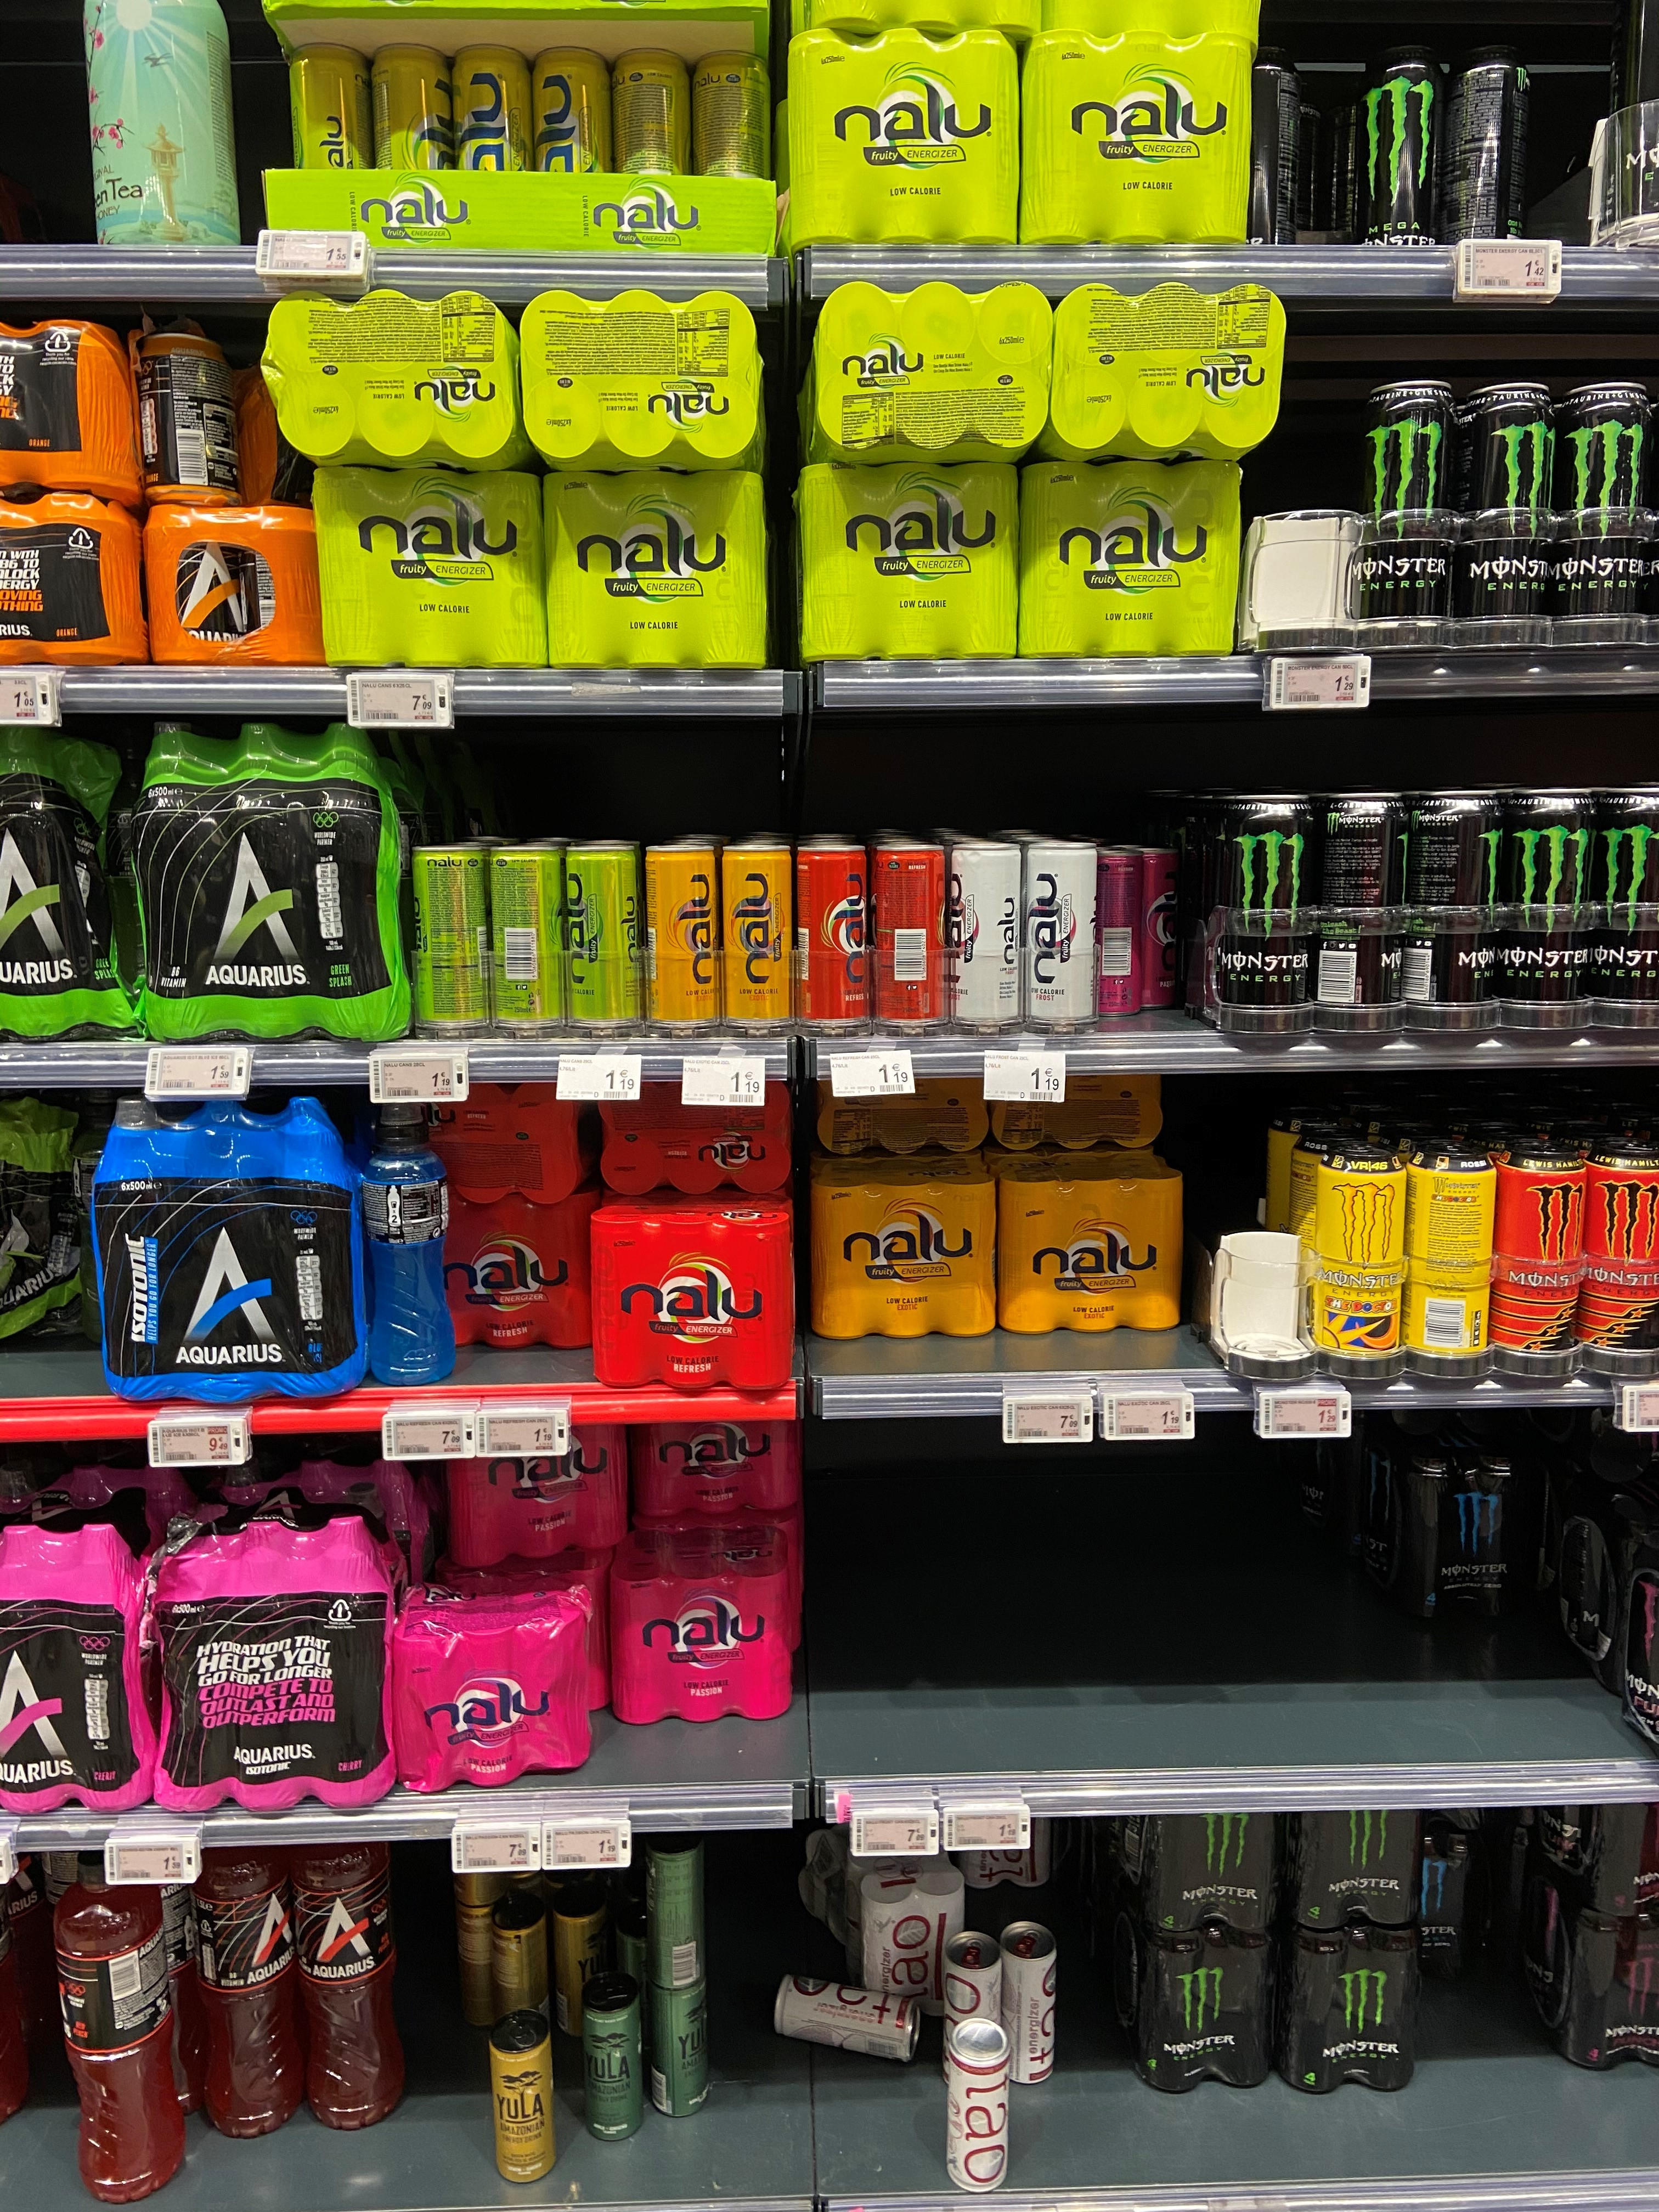AquariusBlueIceFles500ml: (359, 1090, 451, 1385)
AquariusBlueIceFles6x500ml: (91, 1092, 366, 1402)
AquariusCherryFles6x500ml: (150, 1489, 396, 1811), (0, 1493, 148, 1811)
AquariusGreenSplashFles6x500ml: (127, 718, 406, 1042), (0, 719, 131, 1038)
AquariusOrangeBlik330ml: (136, 333, 240, 495)
AquariusOrangeBlik6x330ml: (145, 502, 321, 669), (0, 489, 143, 664), (0, 319, 127, 496)
AquariusRedPeachFles500ml: (52, 1848, 188, 2203), (197, 1827, 301, 2139), (298, 1832, 406, 2128)
ArizonaOriginalGreenTeaHoney: (82, 0, 242, 253)
Monster44: (1486, 1141, 1591, 1369), (1581, 1130, 1659, 1381)
MonsterAbsolutelyZero4x500ml: (1371, 1423, 1537, 1627)
MonsterOriginal4x500ml: (1119, 1909, 1274, 2090), (1127, 1768, 1279, 1928), (1279, 1926, 1417, 2092), (1288, 1791, 1424, 1930)
MonsterOriginal500ml: (1356, 378, 1460, 627), (1558, 381, 1654, 632), (1215, 792, 1312, 1031), (1314, 794, 1408, 1031), (1464, 383, 1554, 625), (1504, 787, 1595, 1026), (1408, 789, 1497, 1031), (1354, 44, 1441, 256), (1446, 44, 1532, 246), (1593, 787, 1659, 1026), (1241, 49, 1304, 253)
MonsterTheDoctor500ml: (1310, 1143, 1408, 1372), (1403, 1146, 1499, 1371)
NaluExotic250ml: (645, 845, 718, 1031), (723, 846, 793, 1029)
NaluExotic6x350ml: (809, 1163, 997, 1338), (1000, 1158, 1185, 1334), (993, 1054, 1166, 1150), (817, 1062, 988, 1157)
NaluFrost250ml: (951, 845, 1023, 1022), (1025, 841, 1094, 1021)
NaluOriginal250ml: (411, 841, 490, 1036), (486, 841, 565, 1036), (565, 841, 638, 1036)
NaluOriginal350ml: (690, 51, 774, 242), (450, 45, 533, 235), (289, 44, 371, 235), (373, 44, 453, 237), (610, 47, 688, 237), (533, 45, 610, 233)
NaluOriginal6x350ml: (1023, 30, 1255, 251), (786, 30, 1019, 249), (267, 287, 523, 470), (314, 467, 545, 669), (795, 456, 1023, 660), (544, 469, 767, 669), (807, 280, 1053, 462), (518, 289, 765, 463), (1019, 460, 1239, 655), (1054, 282, 1288, 449)
NaluPassion250ml: (1089, 848, 1145, 1021), (1136, 850, 1183, 1007)
NaluPassion6x350ml: (390, 1581, 599, 1794), (612, 1524, 795, 1726), (443, 1420, 627, 1569), (627, 1390, 803, 1524)
NaluRefresh250ml: (795, 845, 871, 1024), (871, 846, 946, 1021)
NaluRefresh6x350ml: (589, 1193, 795, 1390), (396, 1179, 592, 1350), (589, 1076, 791, 1198), (389, 1076, 580, 1204)
TaoNaturalEnergizer250ml: (943, 2019, 1012, 2191), (774, 1980, 913, 2057), (1000, 1919, 1058, 2081)
TaoNaturalEnergizer4x250ml: (850, 1848, 964, 2017)
YulaAppleGinseng: (580, 1979, 645, 2144), (647, 1973, 709, 2118), (643, 1839, 704, 1987)
YulaLemonGinger: (488, 2010, 556, 2184)
